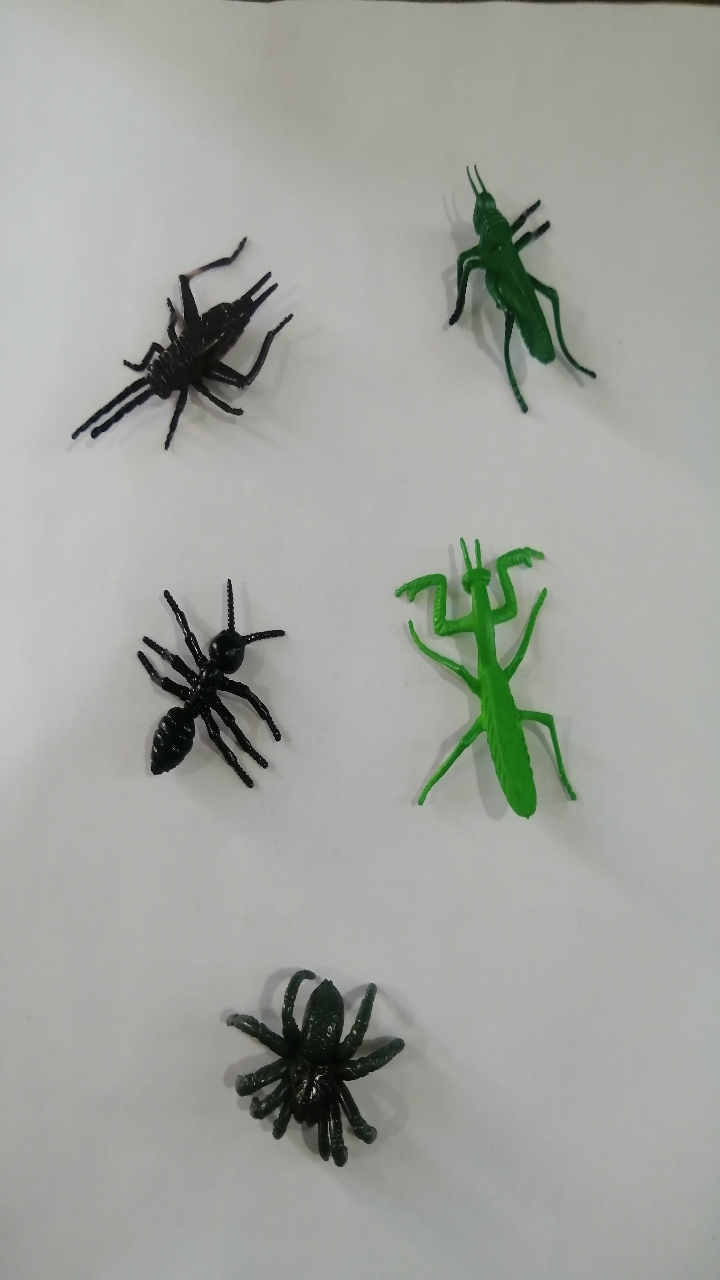intruso: (375, 515, 603, 859), (44, 228, 323, 469), (95, 548, 309, 828), (418, 149, 626, 432), (206, 945, 423, 1186)
